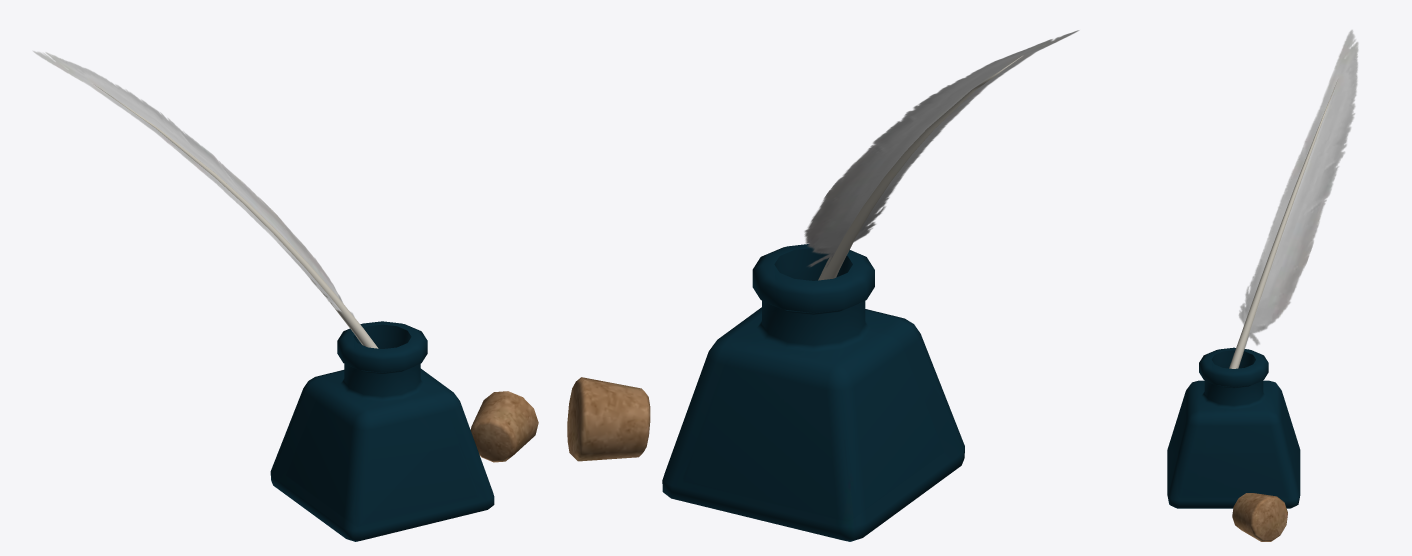
Rendered from ink_bottle_with_feather_and_cork.glb.
3 renders of one model, left to right at view 1: azimuth 30°, elevation 25°; view 2: azimuth 150°, elevation 25°; view 3: azimuth 270°, elevation 25°, orthographic. The views are drawn at different scales.
Parts seen in each view (by area): view 1: polySurface7; view 2: polySurface7; view 3: polySurface7.
Part boxes in pixels (x1,y1,x2,y2): polySurface7: (33,51,538,541); polySurface7: (567,30,1079,541); polySurface7: (1167,30,1358,541).
Bounding box in the file's own units: 300 × 289 × 166.
Materials: 1 (1 with a texture image).
